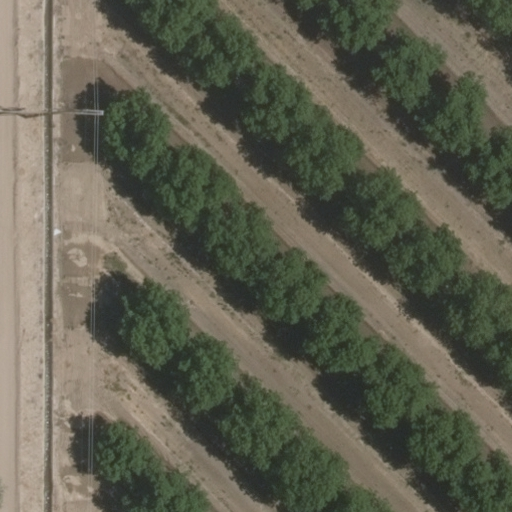DT: (2, 95, 103, 136)
